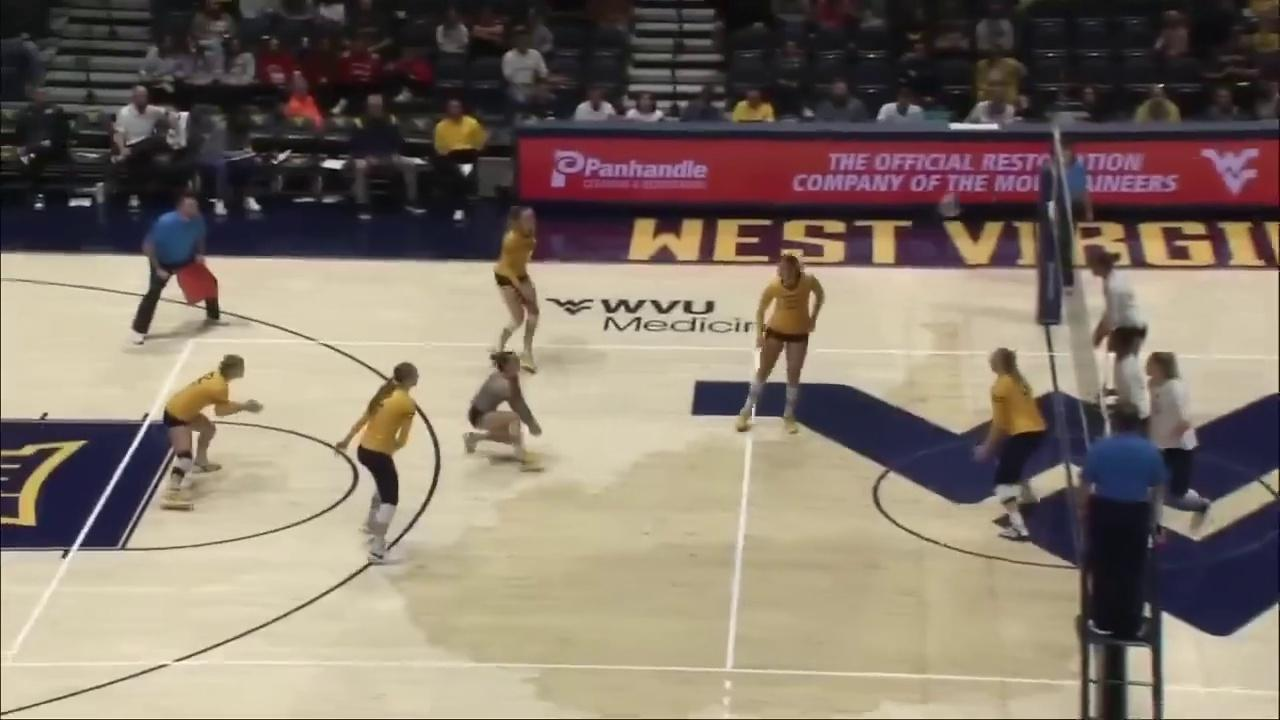player: (336, 361, 421, 569), (972, 345, 1048, 544), (162, 357, 257, 515), (743, 252, 821, 438), (1141, 352, 1213, 542), (1084, 247, 1155, 425), (487, 200, 546, 377), (466, 352, 543, 475), (1105, 323, 1155, 511)
refree: (120, 185, 233, 351), (1081, 402, 1160, 639), (1033, 140, 1089, 266)
